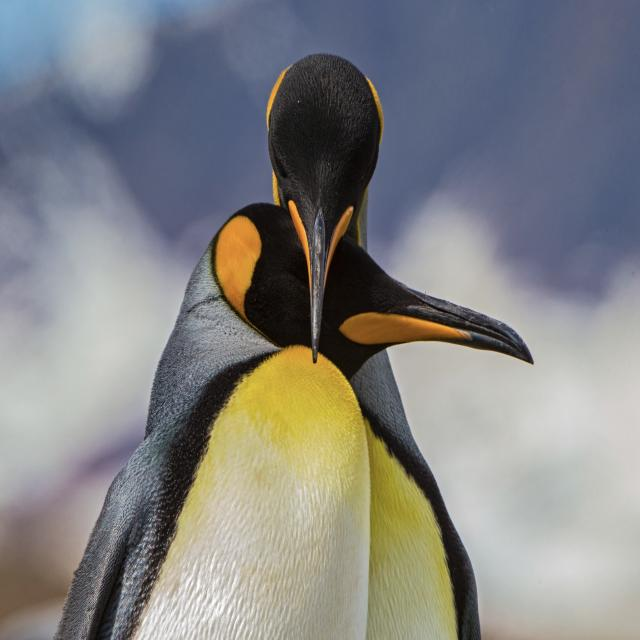penguin: (56, 203, 533, 640), (267, 54, 384, 363)
